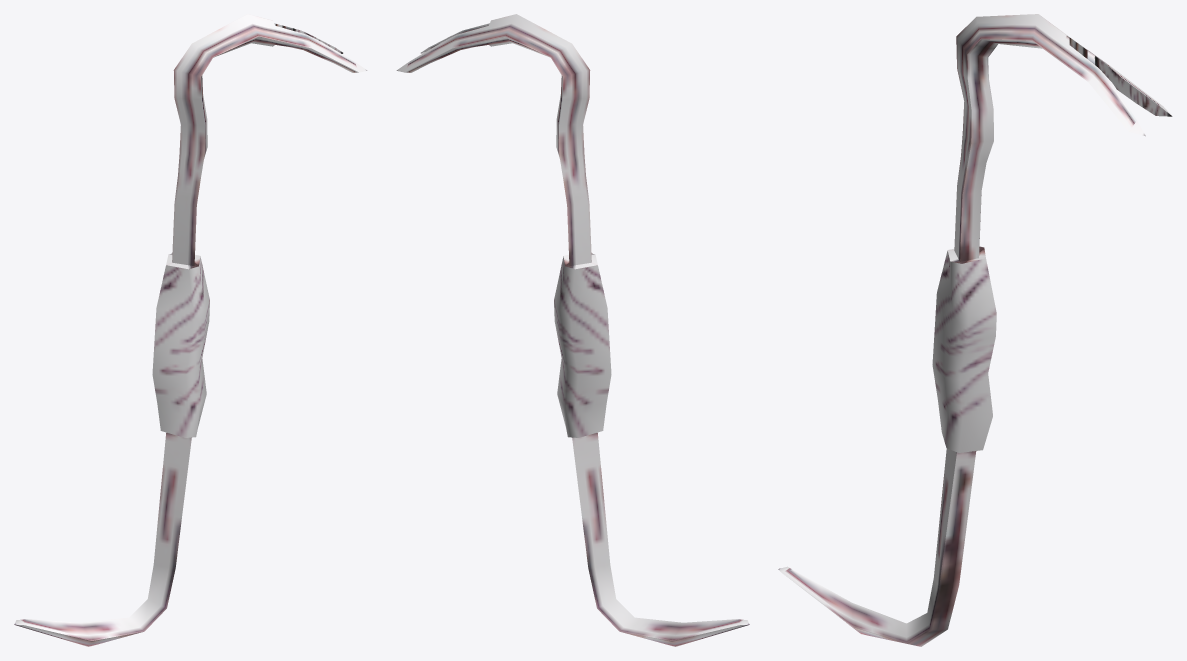
Rendered from Crowbar.fbx.
3 renders of one model, left to right at view 1: azimuth 30°, elevation 25°; view 2: azimuth 150°, elevation 25°; view 3: azimuth 330°, elevation 25°, orthographic. The views are drawn at different scales.
Visible parts, largest first — view 1: Crowbar; view 2: Crowbar; view 3: Crowbar.
Part boxes in pixels (x1,y1,x2,y2): Crowbar: (14, 14, 367, 646); Crowbar: (396, 14, 749, 646); Crowbar: (778, 14, 1172, 646).
Bounding box in the file's own units: 43.33 × 72.04 × 6.84.
1 material, 1 textured.
